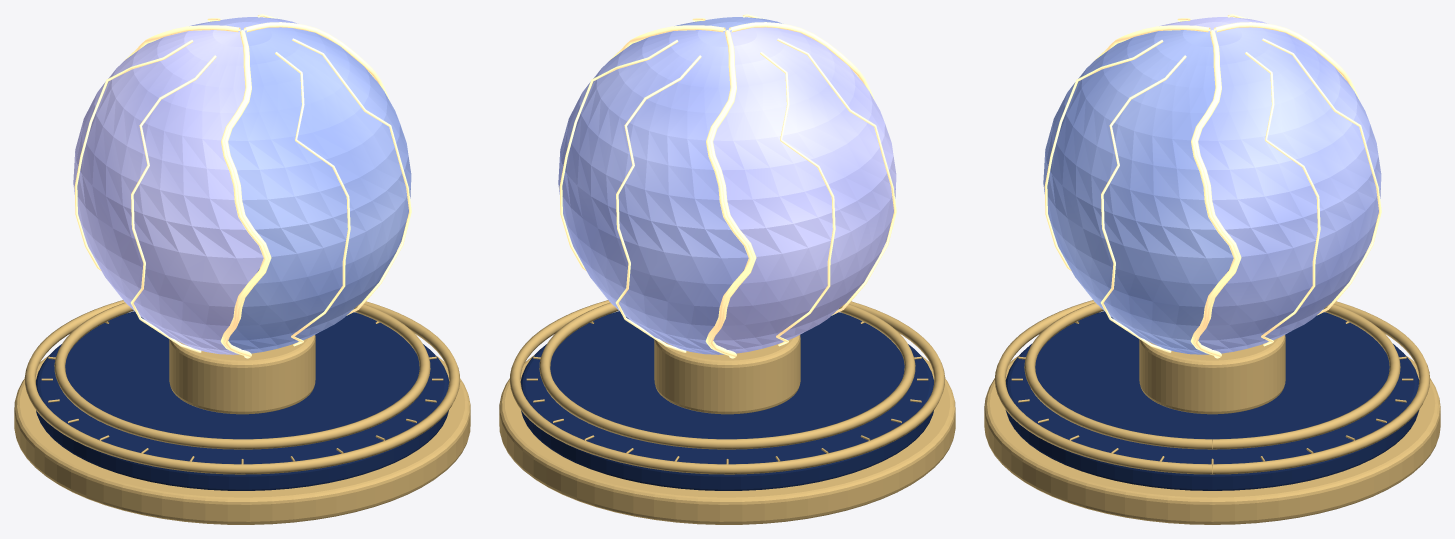
Rendered from moonstone-repair.glb.
3 views of the same model, side by side, from view 1: azimuth 30°, elevation 25°; view 2: azimuth 150°, elevation 25°; view 3: azimuth 270°, elevation 25° (orthographic).
Parts seen in each view (by area): view 1: Moonstone repair pedestal.002, Violet crystal fragment.008, Violet crystal fragment.007, Indigo instrument tray.002, Golden repair boundary.010, Golden repair boundary.008, Violet crystal fragment.006; view 2: Moonstone repair pedestal.002, Violet crystal fragment.007, Violet crystal fragment.006, Indigo instrument tray.002, Golden repair boundary.008, Golden repair boundary.003, Violet crystal fragment.008; view 3: Violet crystal fragment.006, Moonstone repair pedestal.002, Violet crystal fragment.008, Indigo instrument tray.002, Golden repair boundary.003, Golden repair boundary.010, Violet crystal fragment.007.
Part boxes in pixels (x1,y1,x2,y2): Moonstone repair pedestal.002: (14,300,470,524); Violet crystal fragment.008: (228,27,411,353); Violet crystal fragment.007: (73,30,263,354); Indigo instrument tray.002: (36,311,449,490); Golden repair boundary.010: (224,22,411,358); Golden repair boundary.008: (74,25,267,358); Violet crystal fragment.006: (191,17,296,31); Moonstone repair pedestal.002: (499,300,955,524); Violet crystal fragment.007: (713,27,896,353); Violet crystal fragment.006: (558,30,748,354); Indigo instrument tray.002: (520,311,933,490); Golden repair boundary.008: (709,22,896,358); Golden repair boundary.003: (559,25,752,358); Violet crystal fragment.008: (676,17,781,31); Violet crystal fragment.006: (1198,27,1381,353); Moonstone repair pedestal.002: (984,300,1440,524); Violet crystal fragment.008: (1043,30,1233,354); Indigo instrument tray.002: (1005,311,1419,490); Golden repair boundary.003: (1194,22,1381,358); Golden repair boundary.010: (1044,25,1237,358); Violet crystal fragment.007: (1161,17,1266,31).
Size of the model in its own units: 1 by 0.9714 by 1.
